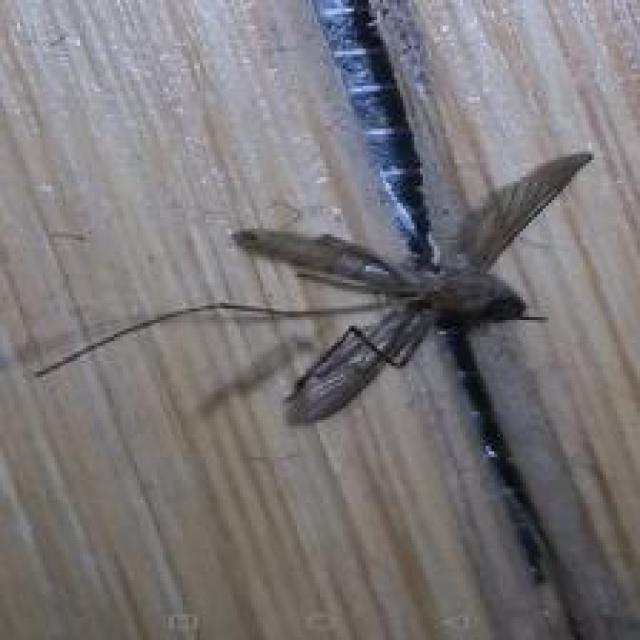Culex: (33, 147, 596, 584)
